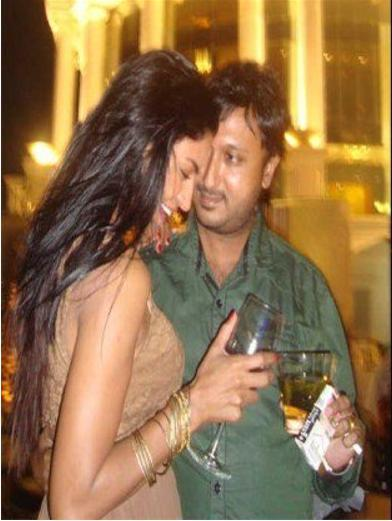Drunk: (197, 122, 262, 229)
